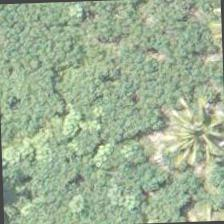Kelapa_Sawit: (158, 91, 223, 184)
